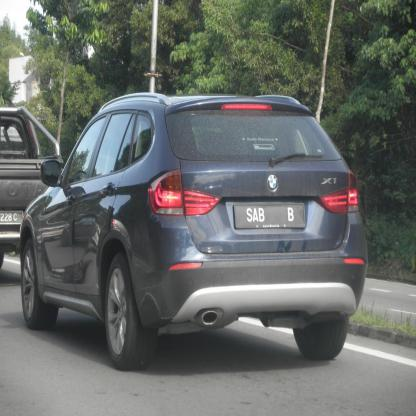Car: (20, 92, 368, 371)
